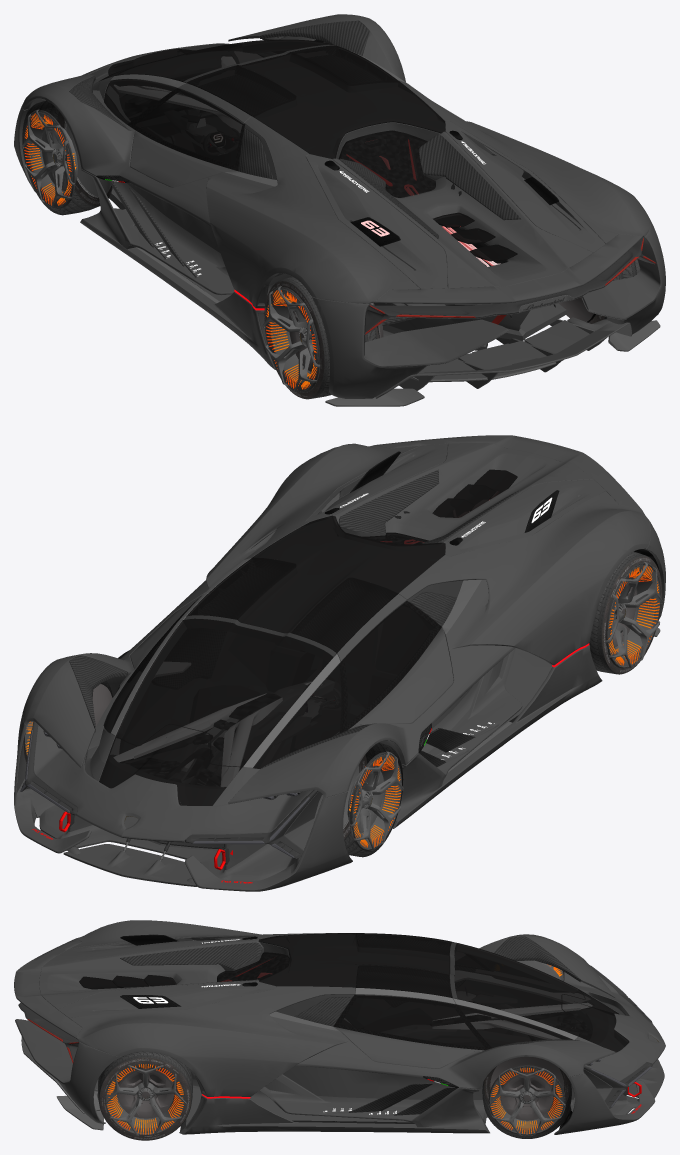
File: terzo_millennio.glb
3 views of the same model, one above another, from view 1: azimuth 30°, elevation 25°; view 2: azimuth 150°, elevation 25°; view 3: azimuth 270°, elevation 25° (orthographic). The views are drawn at different scales.
Visible parts, largest first — view 1: CarBody_terzo_millennio, CarGlass_terzo_millennio, CarDoorPart_L_terzo_millennio, CarDoorPart_R_terzo_millennio, CarCabin_terzo_millennio; view 2: CarBody_terzo_millennio, CarGlass_terzo_millennio, CarDoorPart_L_terzo_millennio, CarDoorPart_R_terzo_millennio, CarCabin_terzo_millennio, CarLamp_Head_terzo_millennio; view 3: CarBody_terzo_millennio, CarGlass_terzo_millennio, CarDoorPart_R_terzo_millennio, CarDoorPart_L_terzo_millennio, CarCabin_terzo_millennio.
Boxes of the visible parts, x1=… form: CarBody_terzo_millennio: x1=14, y1=14, x2=665, y2=406; CarGlass_terzo_millennio: x1=63, y1=39, x2=517, y2=373; CarDoorPart_L_terzo_millennio: x1=128, y1=68, x2=294, y2=187; CarDoorPart_R_terzo_millennio: x1=296, y1=48, x2=405, y2=83; CarCabin_terzo_millennio: x1=164, y1=110, x2=239, y2=155; CarBody_terzo_millennio: x1=14, y1=435, x2=665, y2=891; CarGlass_terzo_millennio: x1=99, y1=469, x2=633, y2=805; CarDoorPart_L_terzo_millennio: x1=293, y1=580, x2=453, y2=732; CarDoorPart_R_terzo_millennio: x1=129, y1=558, x2=294, y2=689; CarCabin_terzo_millennio: x1=272, y1=683, x2=340, y2=744; CarLamp_Head_terzo_millennio: x1=20, y1=729, x2=309, y2=858; CarBody_terzo_millennio: x1=14, y1=920, x2=665, y2=1140; CarGlass_terzo_millennio: x1=79, y1=933, x2=629, y2=1052; CarDoorPart_R_terzo_millennio: x1=333, y1=967, x2=490, y2=1068; CarDoorPart_L_terzo_millennio: x1=355, y1=933, x2=491, y2=1006; CarCabin_terzo_millennio: x1=433, y1=987, x2=516, y2=1005.
Size of the model in its own units: 2.33 by 1.05 by 4.96.
13 materials, 8 textured.
